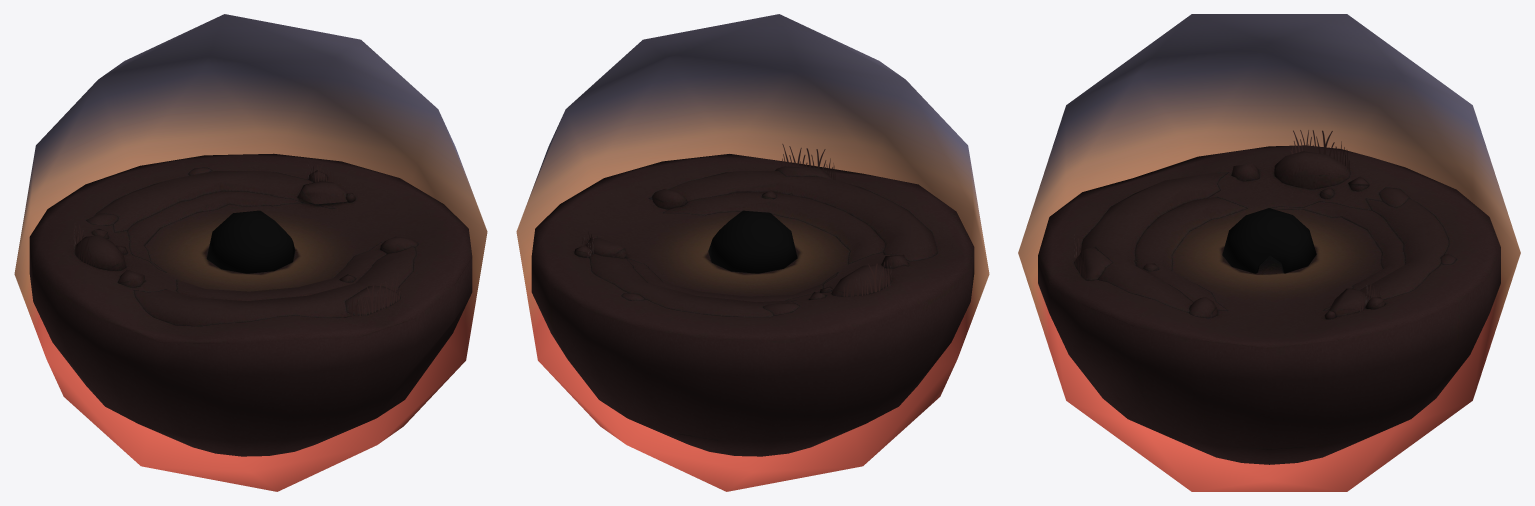
The picture shows the model from 3 angles, left to right: view 1: azimuth 30°, elevation 25°; view 2: azimuth 150°, elevation 25°; view 3: azimuth 270°, elevation 25°; orthographic projection. The views are drawn at different scales.
Visible parts, largest first — view 1: ground, envirosphere.001, lodge.001, GRASS; view 2: ground, envirosphere.001, lodge.001, GRASS.001; view 3: ground, envirosphere.001, lodge.001, GRASS.001.
Boxes of the visible parts, box(x1,y1,x2,y2) form: ground: box(29, 153, 472, 456); envirosphere.001: box(14, 14, 487, 491); lodge.001: box(207, 210, 295, 273); GRASS: box(348, 273, 401, 316); ground: box(531, 154, 974, 456); envirosphere.001: box(516, 14, 989, 491); lodge.001: box(708, 210, 797, 273); GRASS.001: box(843, 261, 891, 296); ground: box(1038, 145, 1500, 464); envirosphere.001: box(1018, 14, 1520, 491); lodge.001: box(1222, 208, 1316, 273); GRASS.001: box(1290, 130, 1349, 170).
Bounding box in the file's own units: 13.02 × 13.69 × 13.69.
Materials: 4 (3 with a texture image).
